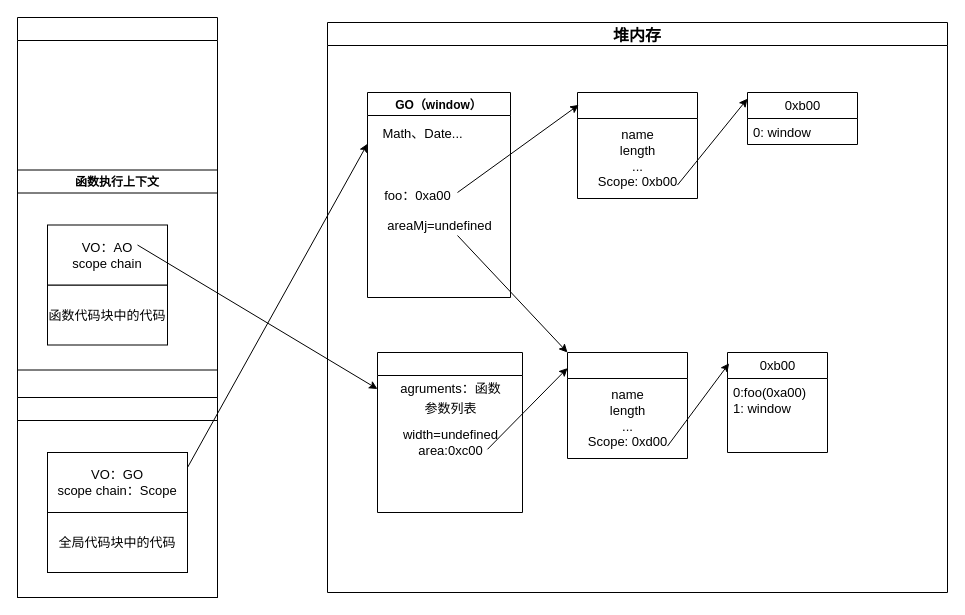
Image size: 965x615. Some labels were removed from this diagram. The shapes that lost their labels are listed below. From the top down, each one's box as (x1, y1, x2, y2) in pixels, then its label:
(576, 92, 698, 198): 0xa00
(16, 16, 218, 598): 调用栈（执行上下文栈）
(566, 352, 688, 458): 0xc00
(376, 352, 522, 512): AO
(16, 396, 218, 598): 全局执行上下文（GEC）
